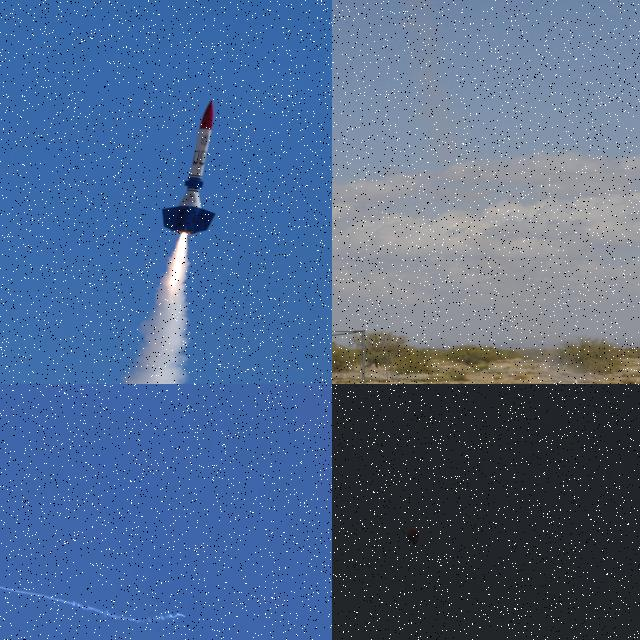Rocket: (160, 100, 219, 236), (185, 615, 186, 619)
